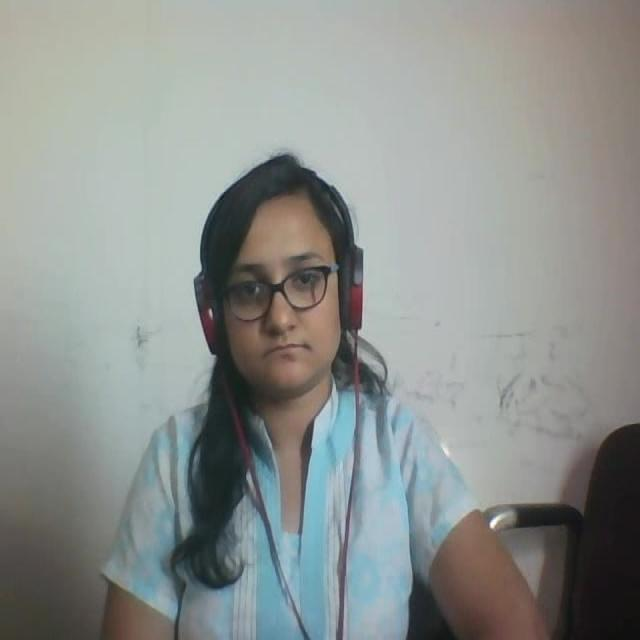Engaged: (181, 144, 374, 415)
